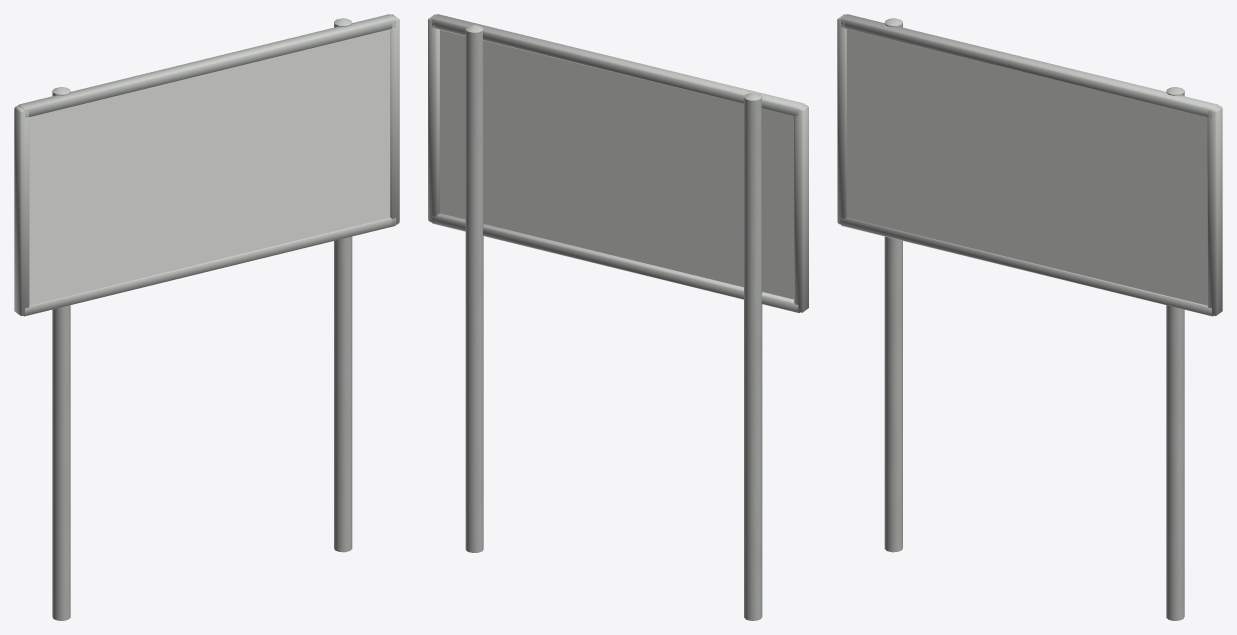
File: sign_frame_pole.glb
The picture shows the model from 3 angles, left to right: view 1: azimuth 30°, elevation 25°; view 2: azimuth 150°, elevation 25°; view 3: azimuth 330°, elevation 25°; orthographic projection.
Visible parts, largest first — view 1: sign_frame_pole_galv; view 2: sign_frame_pole_galv; view 3: sign_frame_pole_galv.
Boxes of the visible parts, x1,y1,x2,y2 form: sign_frame_pole_galv: [14, 14, 399, 620]; sign_frame_pole_galv: [428, 14, 808, 620]; sign_frame_pole_galv: [837, 14, 1222, 620].
Bounding box in the file's own units: 1.89 × 2.52 × 0.108.
Materials: 1 (1 with a texture image).
